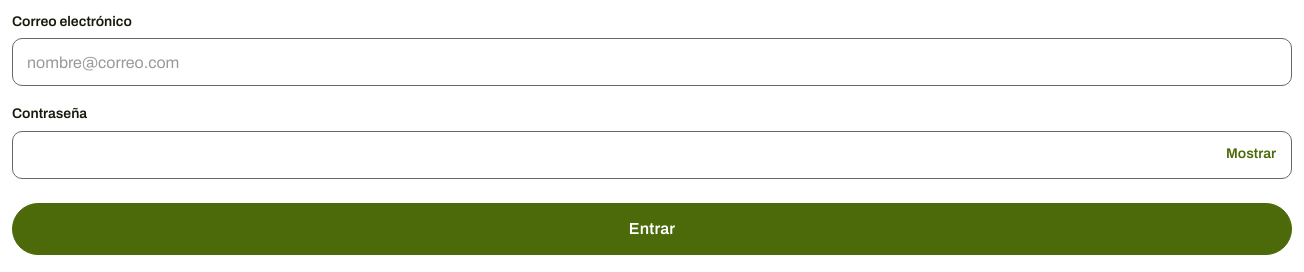
Test: LoginForm: password and pending state › says it is signing in and cannot be sent again while the answer is pending
Type "ana@example.test" into the field labelled "Correo electrónico". click: (652, 62)
box: [12,38,1292,86]
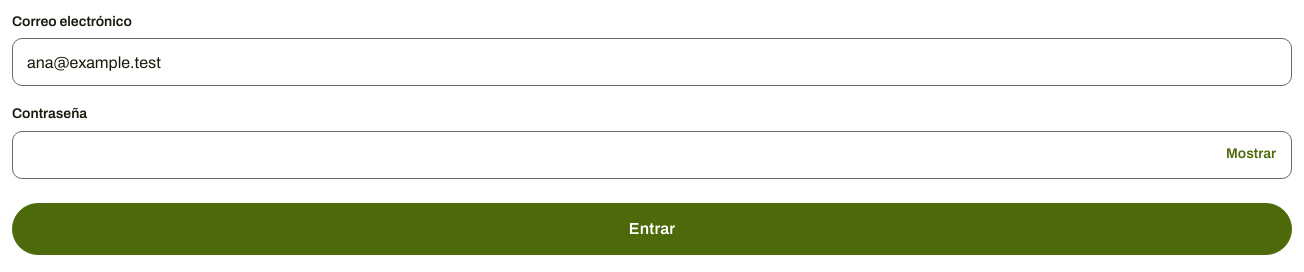
Type "a-long-enough-pass" into the password field labelled "Contraseña". click: (652, 155)
box: [12,131,1292,179]
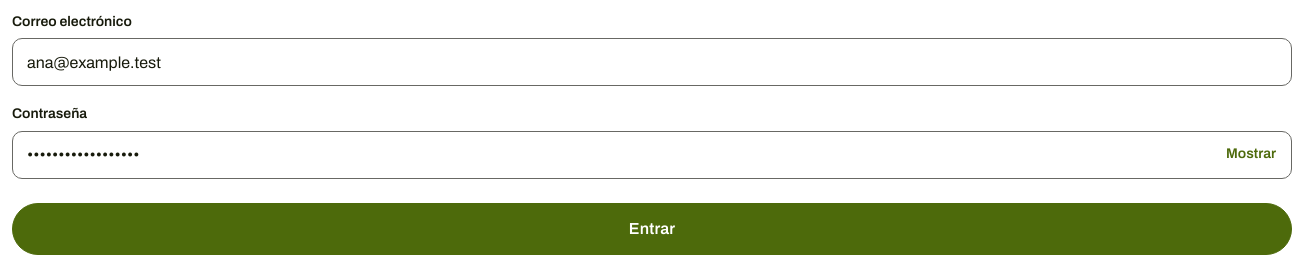
Click the button "Entrar". click: (652, 229)
box: [12,203,1292,255]
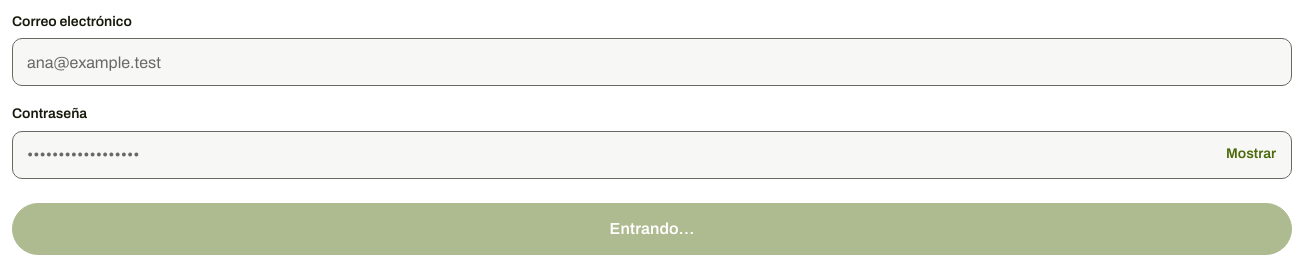
Result: the button "Entrando…" is disabled at [12,203,1292,255]
